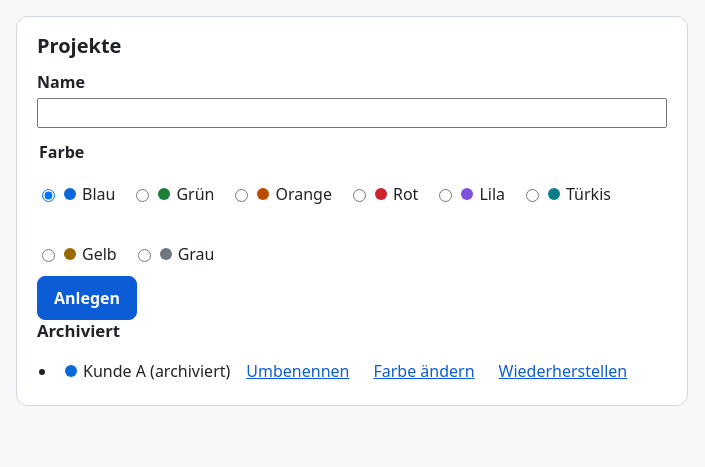
Test: ProjectsView: create (edge cases 1–4, 7) › rejects "kunde a" while an archived "Kunde A" exists (edge case 4)
Type "kunde a" into the field labelled "Name" at (352, 113), box x1=37 y1=98 x2=667 y2=128
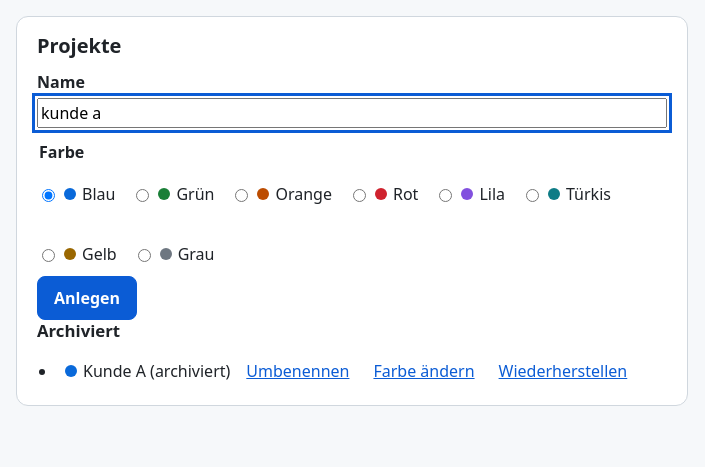
Click the button "Anlegen" at (87, 298), box x1=37 y1=276 x2=137 y2=320
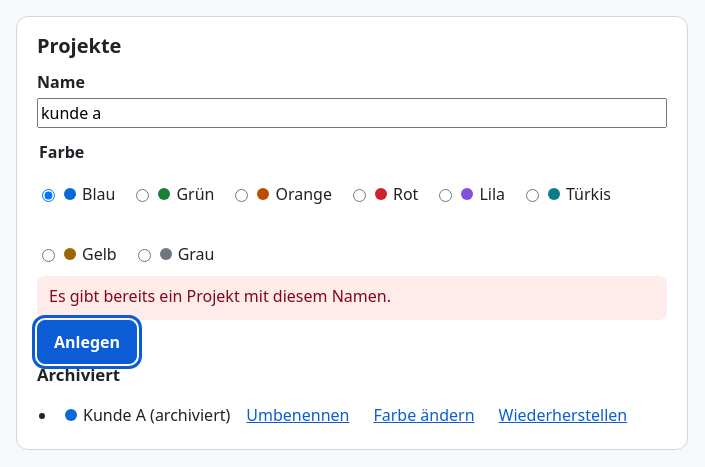
Expected: the message reads "Es gibt bereits ein Projekt mit diesem Namen.", x1=49 y1=285 x2=391 y2=307
